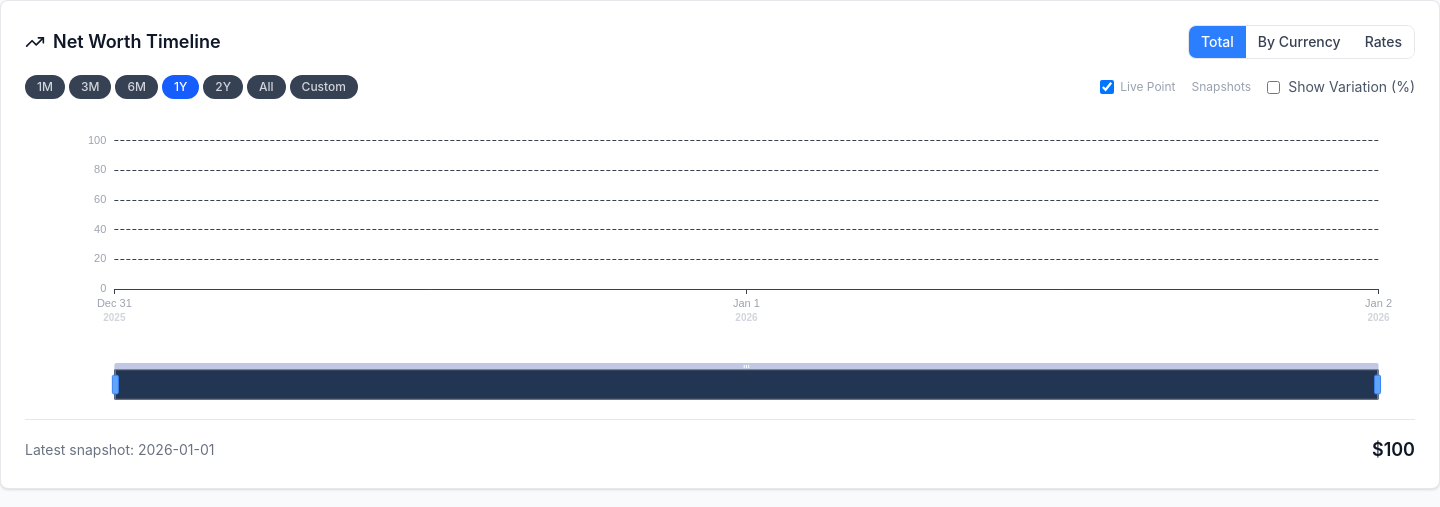
NetWorthTimelineWidget › hides the latest snapshot summary in breakdown mode
The image size is (1440, 507).
Step 1. Click the button "By Currency" → [1299, 42], box [1246, 26, 1353, 58]
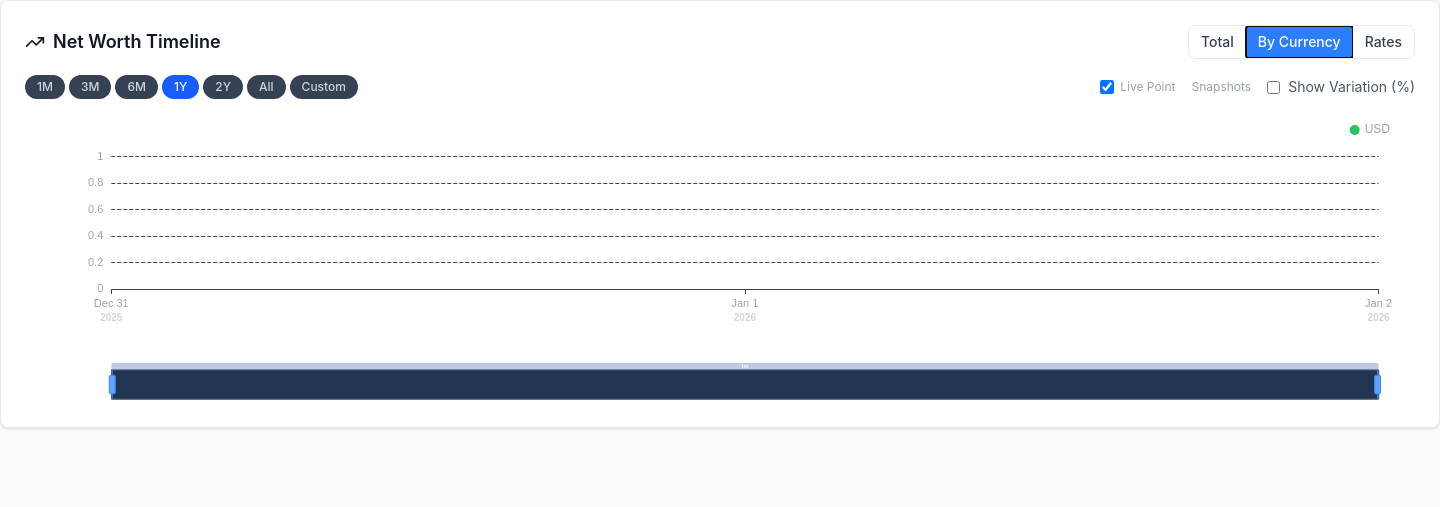
Expected: the text "Latest snapshot:" is gone
